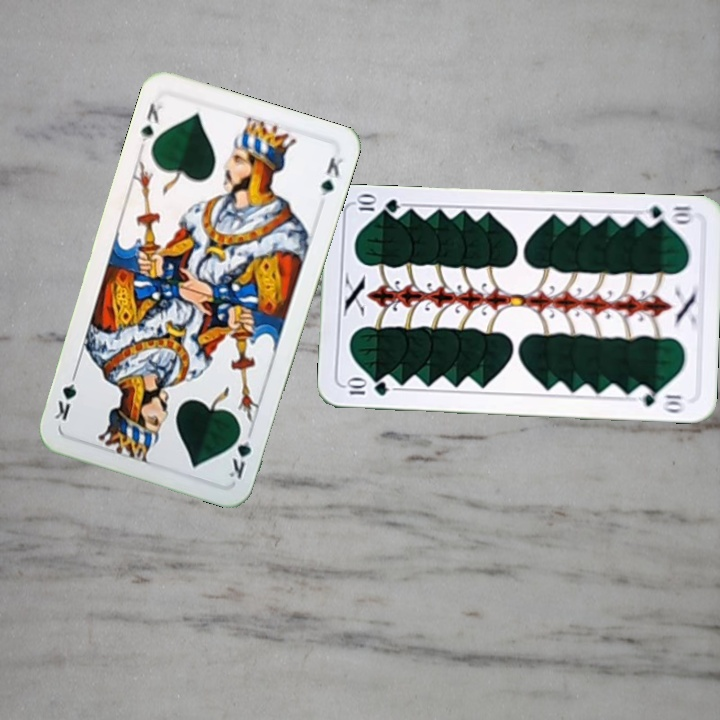G10: (637, 202, 697, 228), (342, 377, 391, 398)
GK: (224, 424, 255, 482), (136, 98, 166, 146)
